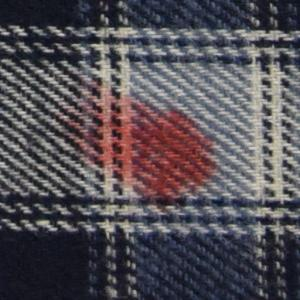Stain: (63, 77, 221, 211)
